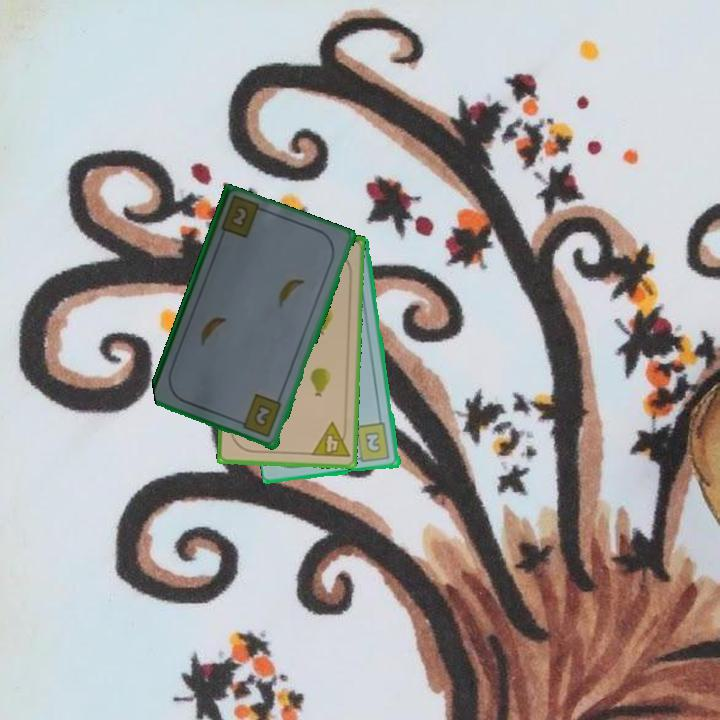2b: (235, 391, 285, 440), (351, 420, 393, 465), (227, 204, 249, 231)
4p: (308, 419, 352, 461)
